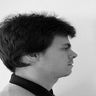ear: (20, 42, 45, 65)
